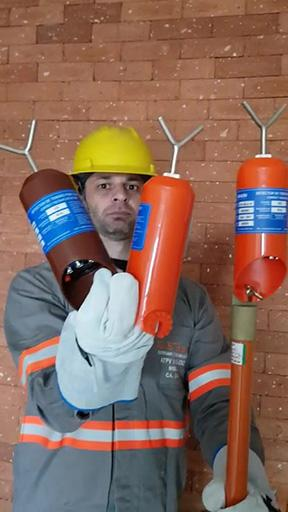Detector_Tensao_Contato: (1, 120, 119, 316), (126, 115, 206, 343), (228, 100, 288, 306)
Vara_Manobra: (224, 296, 261, 512)
